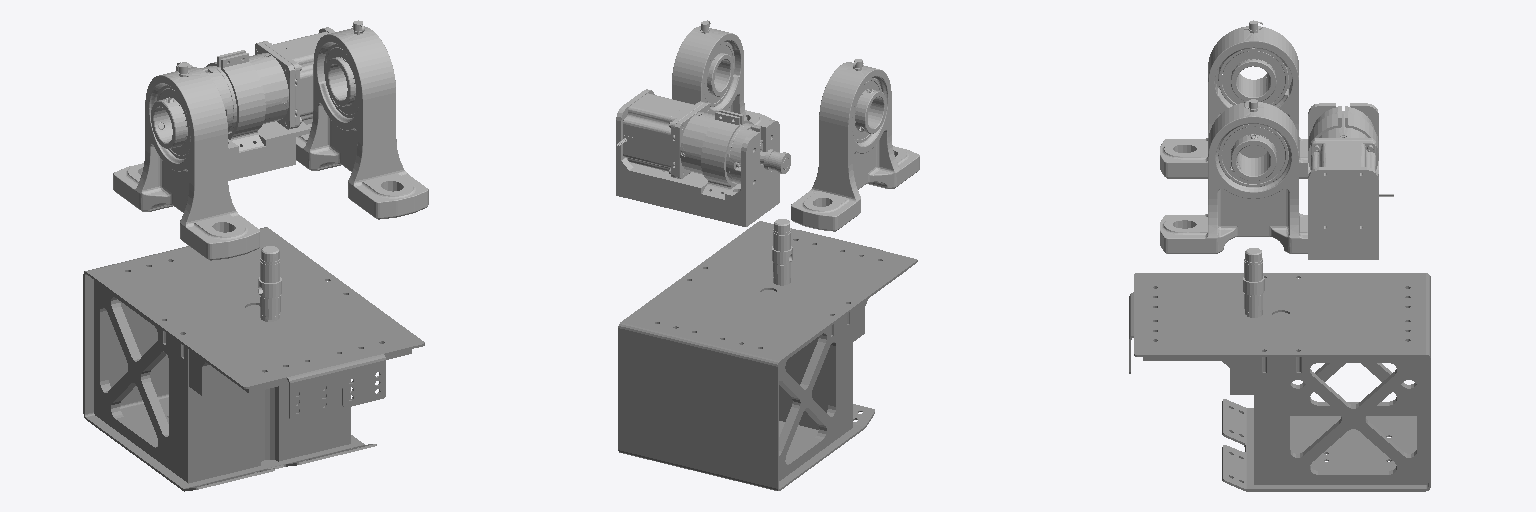
URDF robot description (arm_urdf):
<?xml version="1.0" encoding="utf-8"?>
<!-- This URDF was automatically created by SolidWorks to URDF Exporter! Originally created by Stephen Brawner (brawner@gmail.com) 
     Commit Version: 1.6.1-13-g25da24a-dirty  Build Version: 1.6.9585.36744
     For more information, please see http://wiki.ros.org/sw_urdf_exporter -->
<robot
  name="arm_urdf">
  <link
    name="base_link">
    <inertial>
      <origin
        xyz="4.98242362046986E-05 0.0816805791695709 -0.0380163600286763"
        rpy="0 0 0" />
      <mass
        value="2.19298296085718" />
      <inertia
        ixx="0.00922640294136781"
        ixy="-1.37268938555797E-07"
        ixz="-5.71557357196329E-08"
        iyy="0.0109619015537567"
        iyz="0.000743512320091812"
        izz="0.00954745516525318" />
    </inertial>
    <visual>
      <origin
        xyz="0 0 0"
        rpy="1.5708 0 0" />
      <geometry>
        <mesh
          filename="package://arm_urdf/meshes/visual/base_link.STL" />
      </geometry>
      <material
        name="">
        <color
          rgba="0.627450980392157 0.627450980392157 0.627450980392157 1" />
      </material>
    </visual>
    <collision>
      <origin
        xyz="0 0 0"
        rpy="0 0 0" />
      <geometry>
        <mesh
          filename="package://arm_urdf/meshes/visual/base_link.STL" />
      </geometry>
    </collision>
  </link>
  <link
    name="hoverboard_link">
    <inertial>
      <origin
        xyz="0.0097849415667125 0.101094981356846 -0.0184038995075151"
        rpy="0 0 0" />
      <mass
        value="2.61402056342027" />
      <inertia
        ixx="0.00638336037056827"
        ixy="-2.07932471723523E-05"
        ixz="2.82262760280865E-05"
        iyy="0.0108581628230145"
        iyz="-5.40781068401202E-06"
        izz="0.00655003105684817" />
    </inertial>
    <visual>
      <origin
        xyz="0 0 0"
        rpy="0 0 0" />
      <geometry>
        <mesh
          filename="package://arm_urdf/meshes/visual/hoverboard_link.STL" />
      </geometry>
      <material
        name="">
        <color
          rgba="0.752941176470588 0.752941176470588 0.752941176470588 1" />
      </material>
    </visual>
    <collision>
      <origin
        xyz="0 0 0"
        rpy="0 0 0" />
      <geometry>
        <mesh
          filename="package://arm_urdf/meshes/visual/hoverboard_link.STL" />
      </geometry>
    </collision>
  </link>
  <joint
    name="hoverboard_joint"
    type="continuous">
    <origin
      xyz="0.0001 0 0.136"
      rpy="1.5708 0 0" />
    <parent
      link="base_link" />
    <child
      link="hoverboard_link" />
    <axis
      xyz="0 1 0" />
  </joint>
  <link
    name="upper_arm_link">
    <inertial>
      <origin
        xyz="0.112362239755853 0.264341982765722 -0.020364985841522"
        rpy="0 0 0" />
      <mass
        value="4.67207064770959" />
      <inertia
        ixx="0.121118116191225"
        ixy="2.83254442325837E-08"
        ixz="2.01256114036877E-09"
        iyy="0.0044821082932896"
        iyz="0.00439334976275115"
        izz="0.118393299755141" />
    </inertial>
    <visual>
      <origin
        xyz="0 0 0"
        rpy="0 0 0" />
      <geometry>
        <mesh
          filename="package://arm_urdf/meshes/visual/upper_arm_link.STL" />
      </geometry>
      <material
        name="">
        <color
          rgba="0.752941176470588 0.752941176470588 0.752941176470588 1" />
      </material>
    </visual>
    <collision>
      <origin
        xyz="0 0 0"
        rpy="0 0 0" />
      <geometry>
        <mesh
          filename="package://arm_urdf/meshes/visual/upper_arm_link.STL" />
      </geometry>
    </collision>
  </link>
  <joint
    name="upper_arm_joint"
    type="revolute">
    <origin
      xyz="-0.1141 0.19185 0"
      rpy="0.15708 0 0" />
    <parent
      link="hoverboard_link" />
    <child
      link="upper_arm_link" />
    <axis
      xyz="1 0 0" />
    <limit
      lower="-0.3370"
      upper="1.4160"
      effort="50.0"
      velocity="1.0" />
  </joint>
  <link
    name="forearm_link">
    <inertial>
      <origin
        xyz="0.0745812951180118 0.266414133553321 0.0123912838392038"
        rpy="0 0 0" />
      <mass
        value="2.19916126180676" />
      <inertia
        ixx="0.0809674092141022"
        ixy="3.03924741446594E-08"
        ixz="-2.47770252096895E-09"
        iyy="0.00111728909293996"
        iyz="-0.0047588890930735"
        izz="0.0800823521409253" />
    </inertial>
    <visual>
      <origin
        xyz="0 0 0"
        rpy="0 0 0" />
      <geometry>
        <mesh
          filename="package://arm_urdf/meshes/visual/forearm_link.STL" />
      </geometry>
      <material
        name="">
        <color
          rgba="0.752941176470588 0.752941176470588 0.752941176470588 1" />
      </material>
    </visual>
    <collision>
      <origin
        xyz="0 0 0"
        rpy="0 0 0" />
      <geometry>
        <mesh
          filename="package://arm_urdf/meshes/visual/forearm_link.STL" />
      </geometry>
    </collision>
  </link>
  <joint
    name="forearm_joint"
    type="revolute">
    <origin
      xyz="0.04 0.5582 -0.0097414"
      rpy="0.89012 0 0" />
    <parent
      link="upper_arm_link" />
    <child
      link="forearm_link" />
    <axis
      xyz="1 0 0" />
    <limit
      lower="0.000"
      upper="1.960"
      effort="50.0"
      velocity="1.0" />
  </joint>
</robot>

--- What the picture shows (computed from the rendered views, not written in the file) ---
The picture shows the robot from 3 angles, left to right: view 1: azimuth 30°, elevation 25°; view 2: azimuth 150°, elevation 25°; view 3: azimuth 270°, elevation 25°; orthographic projection.
Robot: arm_urdf — 4 links, 3 joints (2 revolute, 1 continuous); root link base_link; default pose: every joint at zero.
Visible links, largest first — view 1: base_link, hoverboard_link; view 2: base_link, hoverboard_link; view 3: base_link, hoverboard_link.
Link boxes in pixels (left/top/right/bottom): base_link: left=83, top=227, right=424, bottom=491; hoverboard_link: left=113, top=20, right=428, bottom=321; base_link: left=618, top=221, right=917, bottom=490; hoverboard_link: left=616, top=20, right=919, bottom=285; base_link: left=1129, top=273, right=1430, bottom=491; hoverboard_link: left=1160, top=20, right=1393, bottom=317.
Size in the robot's own frame: 0.2169 by 0.265 by 0.3773 metres.
Meshes: 4 distinct files referenced, 2 mesh visuals loaded (2 binary STL); not drawn: 2 (reference not matched to a file when rendering).
